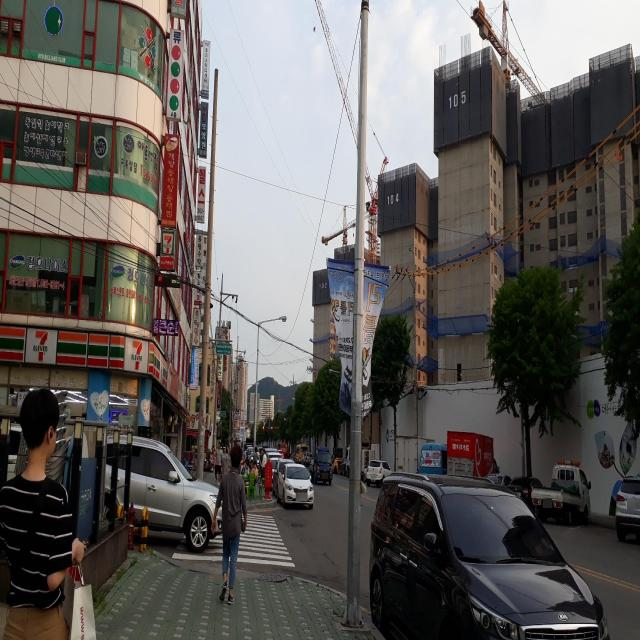횡단보도: (171, 512, 296, 568)
